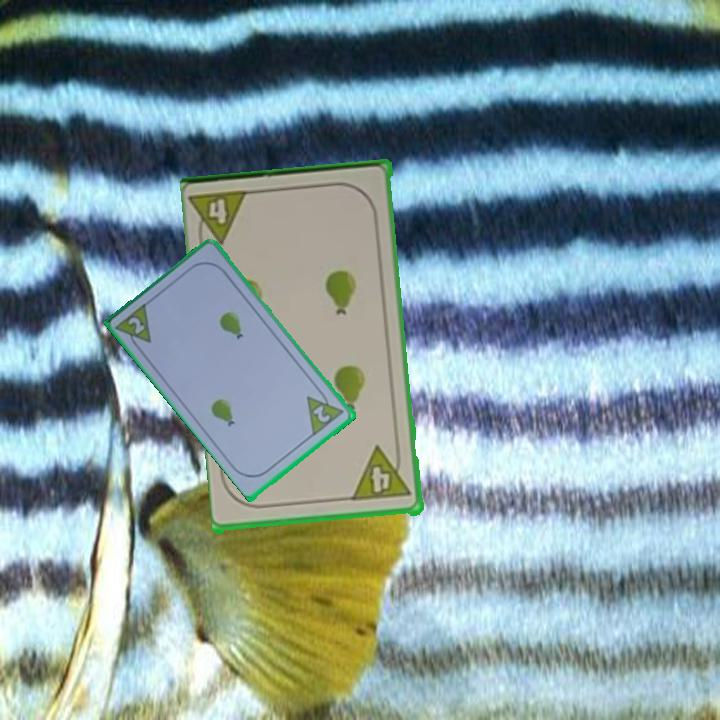2p: (310, 401, 334, 426), (125, 313, 148, 337)
4p: (189, 186, 254, 250), (349, 443, 415, 504)
